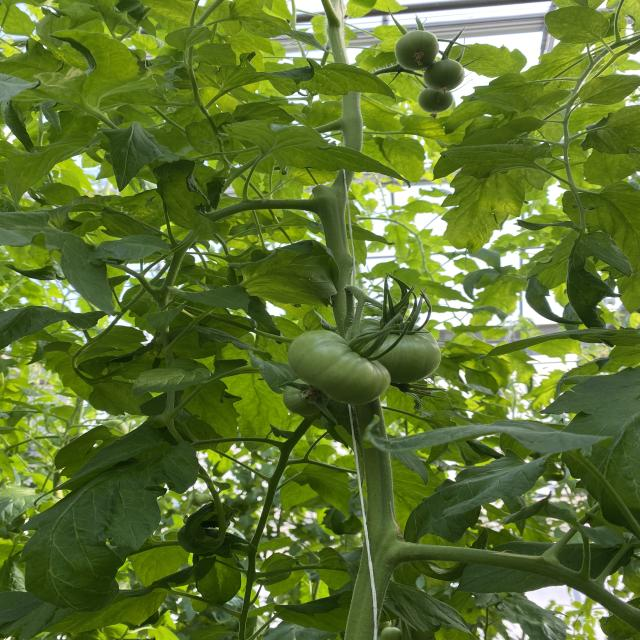yesil: (273, 278, 434, 403)
